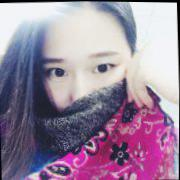WRONG: (37, 37, 132, 134)
